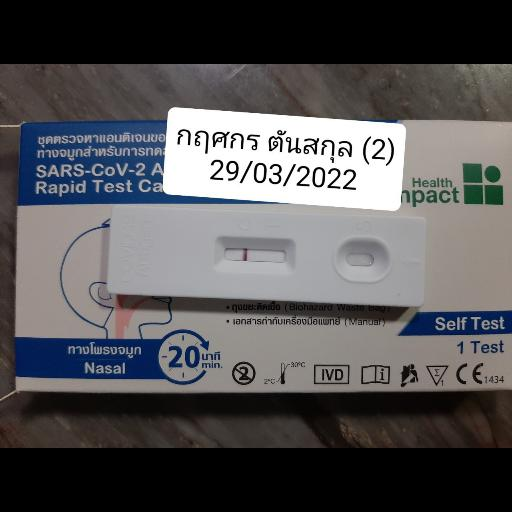Neg: (108, 205, 427, 306)
